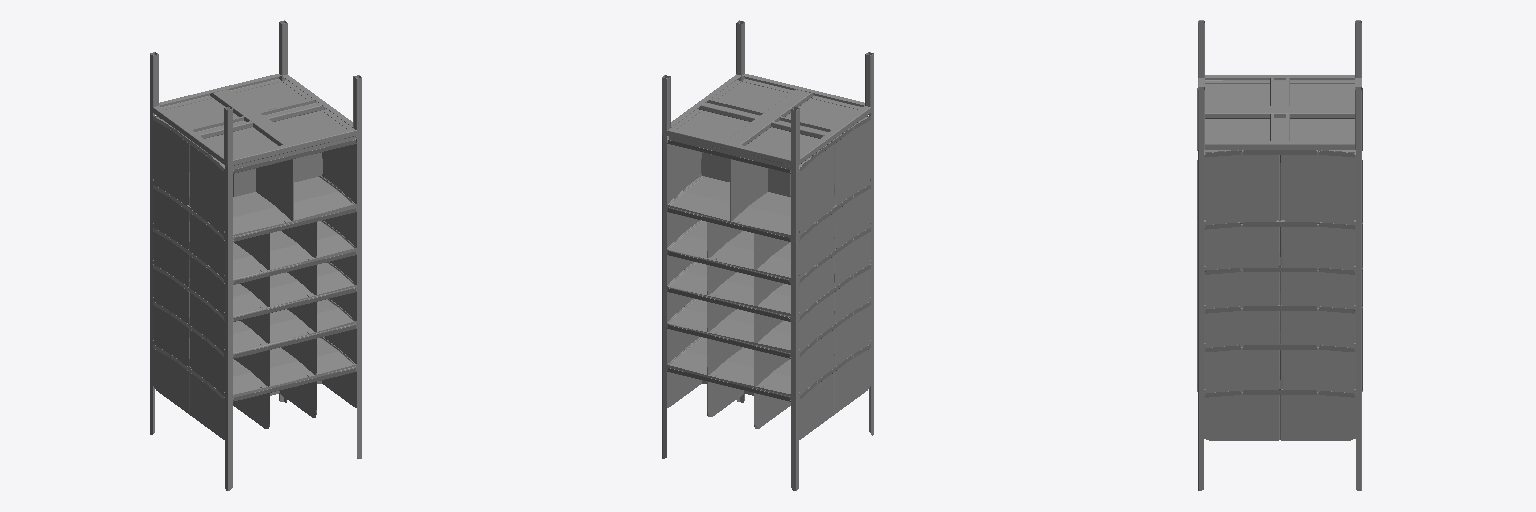
URDF robot description (shelf):
<?xml version="0.0" ?>
<robot name="shelf">
    <link concave="yes" name="shelfLink">
        <contact>
            <lateral_friction value="1"/>
        </contact>
        <inertial>
            <origin rpy="0 0 0" xyz="0 0 0"/>
            <mass value=".0"/>
            <inertia ixx="0" ixy="0" ixz="0" iyy="0" iyz="0" izz="0"/>
        </inertial>
        <visual>
            <origin rpy="0 0 0" xyz="0 0 0"/>
            <geometry>
                <mesh filename="shelf.obj" scale="1 1 1"/>
            </geometry>
            <material name="grey">
                <color rgba="0.6 0.6 0.6 1"/>
            </material>
        </visual>
        <collision concave="yes">
            <origin rpy="0 0 0" xyz="0 0 0"/>
            <geometry>
                <mesh filename="shelf.obj" scale="1 1 1"/>
            </geometry>
        </collision>
    </link>
</robot>

--- Facts derived from the render (not from the file) ---
Views: 3 orthographic renders of the robot side by side, from view 1: azimuth 30°, elevation 25°; view 2: azimuth 150°, elevation 25°; view 3: azimuth 270°, elevation 25°.
Model shelf with 1 links and 0 joints (none), rooted at shelfLink, posed all joints at 0.
Links seen in each view (by area): view 1: shelfLink; view 2: shelfLink; view 3: shelfLink.
Boxes of the visible links, <box> form: shelfLink: <box>150,20,361,490</box>; shelfLink: <box>662,20,873,490</box>; shelfLink: <box>1197,20,1362,490</box>.
Size in the robot's own frame: 0.8795 by 0.8842 by 2.37 metres.
1 mesh visuals loaded from 1 distinct referenced files (1 OBJ).